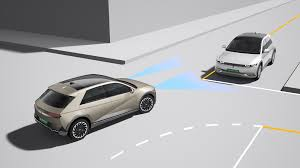Honda Ioniq: (28, 70, 163, 141), (205, 25, 282, 98)
